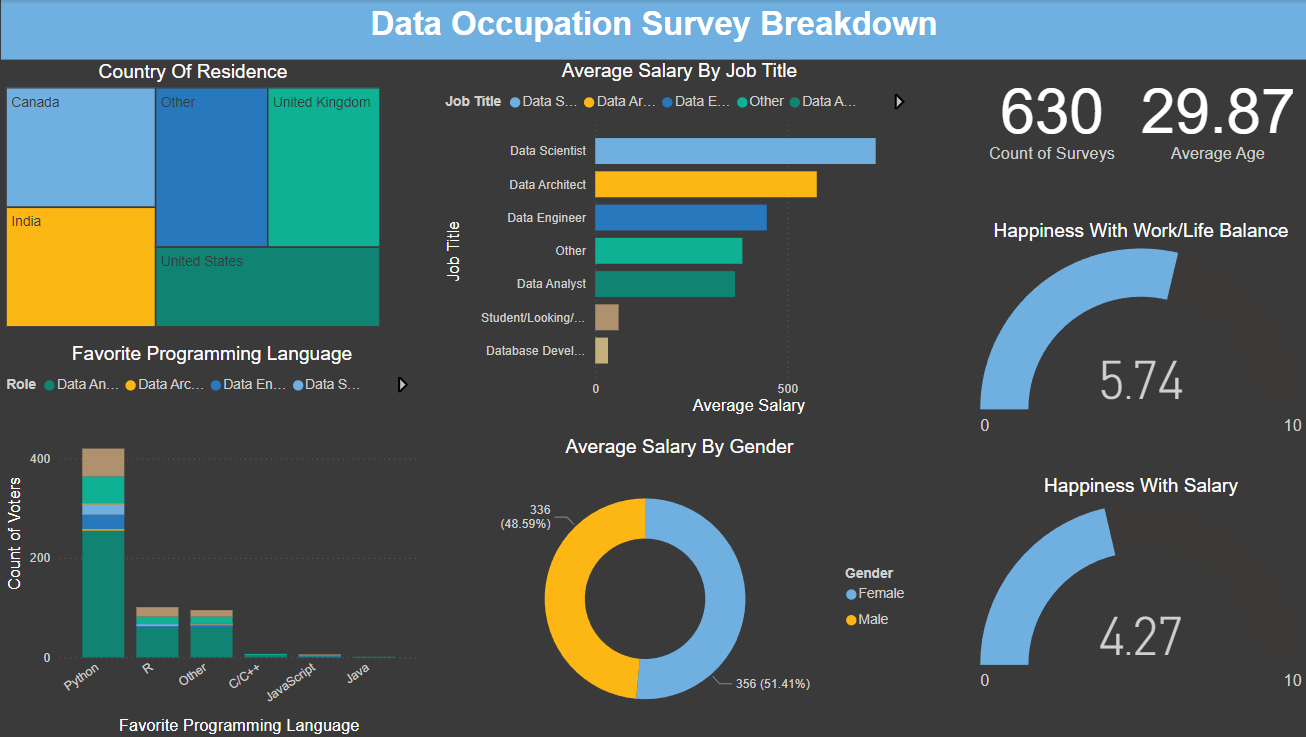

What the dashboard file says about the page in this screenshot:
{"tool":"powerbi","page":{"name":"Page 1","canvas":[1280,720],"ordinal":0},"visuals":[{"type":"textbox","box":[9.7,0,1270.3,58.4],"z":0},{"type":"card","fields":{"Values":["CountNonNull(Data Professional Survey.Unique ID)"]},"box":[957.1,58.4,149.8,107],"z":1000},{"type":"card","fields":{"Values":["Avg(Data Professional Survey.Q10 - Current Age)"]},"box":[1106.9,59.3,173.1,106],"z":2000},{"type":"barChart","title":"Average Salary By Job Title","fields":{"Category":["Data Professional Survey.Q1 - Which Title Best Fits your Current Role?.1"],"Y":["Avg(Data Professional Survey.Average Salary)"],"Series":["Data Professional Survey.Q1 - Which Title Best Fits your Current Role?.1"]},"box":[436.7,58.4,465.9,350.2],"z":3000},{"type":"columnChart","title":"Favorite Programming Language","fields":{"Category":["Data Professional Survey.Q5 - Favorite Programming Language.1"],"Y":["CountNonNull(Data Professional Survey.Unique ID)"],"Series":["Data Professional Survey.Q1 - Which Title Best Fits your Current Role?.1"]},"box":[9.7,333.6,410.5,386.1],"z":4000},{"type":"treemap","title":"Country Of Residence","fields":{"Group":["Data Professional Survey.Q11 - Which Country do you live in?.1"],"Values":["Count(Data Professional Survey.Q11 - Which Country do you live in?.1)"]},"box":[9.7,59.3,373.5,263.6],"z":5000},{"type":"gauge","title":"Happiness With Salary","fields":{"Y":["Avg(Data Professional Survey.Q6 - How Happy are you in your Current Position with the following? (Salary))"],"MinValue":["Min(Data Professional Survey.Q6 - How Happy are you in your Current Position with the following? (Salary))"],"MaxValue":["Max(Data Professional Survey.Q6 - How Happy are you in your Current Position with the following? (Salary))"]},"box":[957.1,462,322.9,218.8],"z":6000},{"type":"gauge","title":"Happiness With Work/Life Balance","fields":{"Y":["Avg(Data Professional Survey.Q6 - How Happy are you in your Current Position with the following? (Work/Life Balance))"],"MinValue":["Min(Data Professional Survey.Q6 - How Happy are you in your Current Position with the following? (Work/Life Balance))1"],"MaxValue":["Max(Data Professional Survey.Q6 - How Happy are you in your Current Position with the following? (Work/Life Balance))2"]},"box":[957.1,214,322.9,217.9],"z":7000},{"type":"donutChart","title":"Average Salary By Gender","fields":{"Category":["Data Professional Survey.Q9 - Male/Female?"],"Y":["Avg(Data Professional Survey.Average Salary)"]},"box":[436.7,424.1,465.9,295.7],"z":7001}]}

Visuals, with their boxes in screenshot pixels (x1, y1, x2, y2), scaled from the page's 1280x720 canvas onto the 1306x737 screenshot:
textbox: box=[10, 0, 1305, 60]
card - CountNonNull(Data Professional Survey.Unique ID): box=[977, 60, 1129, 169]
card - Avg(Data Professional Survey.Q10 - Current Age): box=[1129, 61, 1305, 169]
"Average Salary By Job Title" barChart: box=[446, 60, 921, 418]
"Favorite Programming Language" columnChart: box=[10, 341, 429, 736]
"Country Of Residence" treemap: box=[10, 61, 391, 331]
"Happiness With Salary" gauge: box=[977, 473, 1305, 697]
"Happiness With Work/Life Balance" gauge: box=[977, 219, 1305, 442]
"Average Salary By Gender" donutChart: box=[446, 434, 921, 736]
